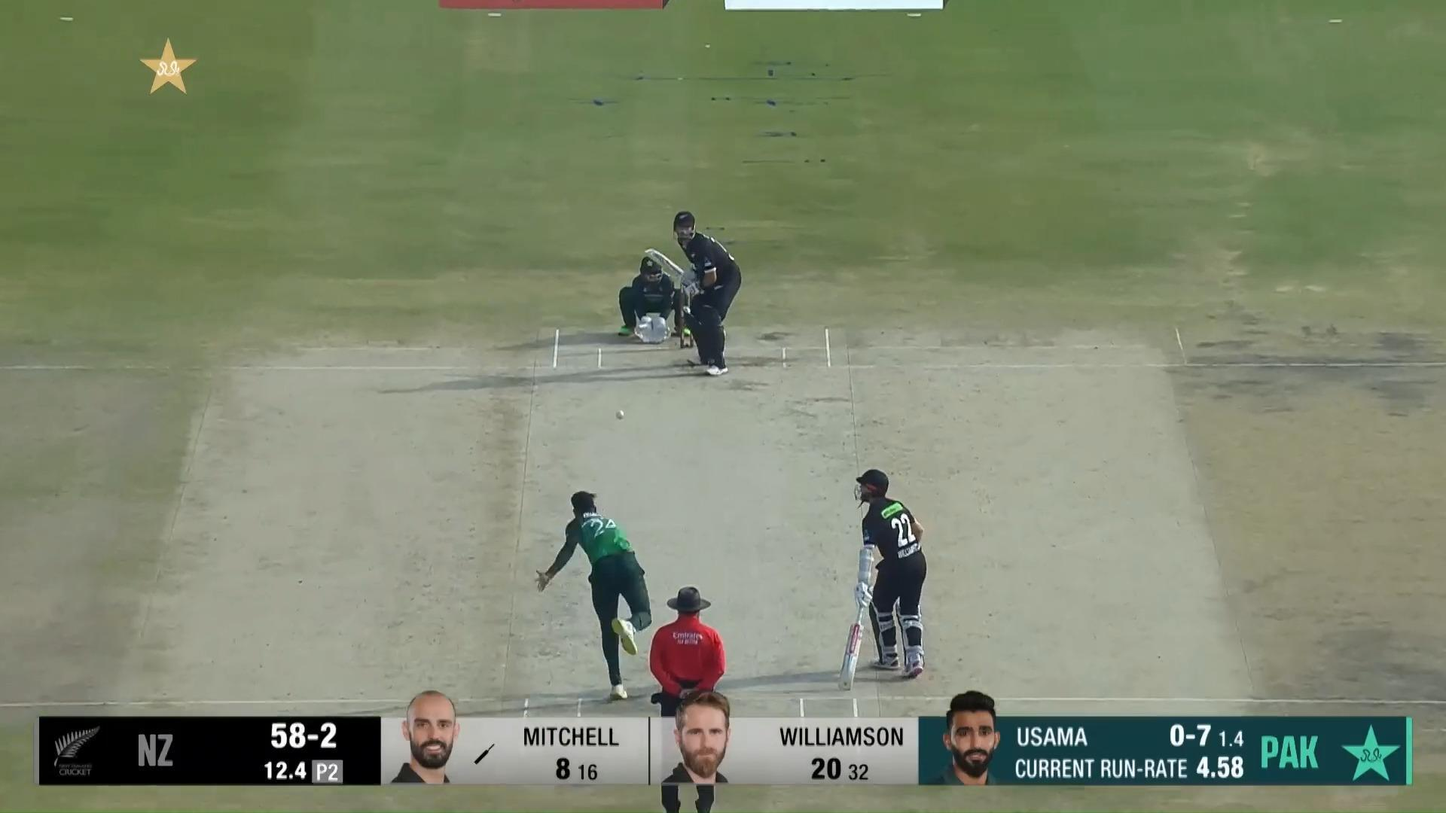BM 1: (642, 210, 742, 378)
BO: (533, 489, 655, 701)
